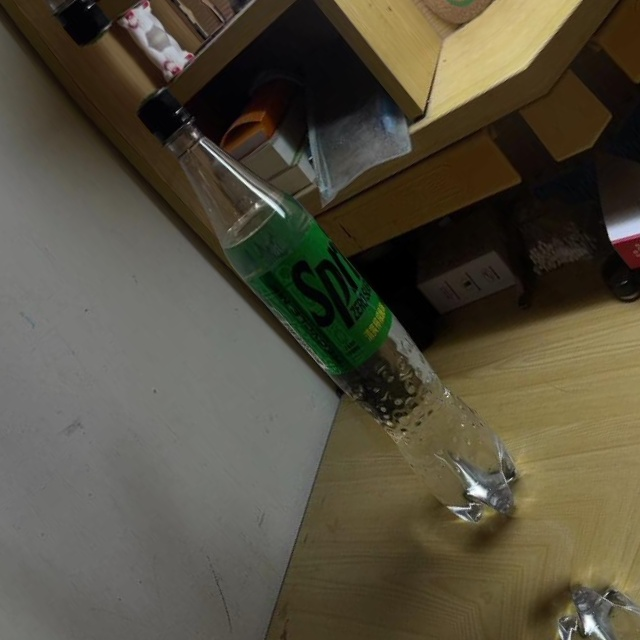Sprite: (114, 64, 542, 548)
